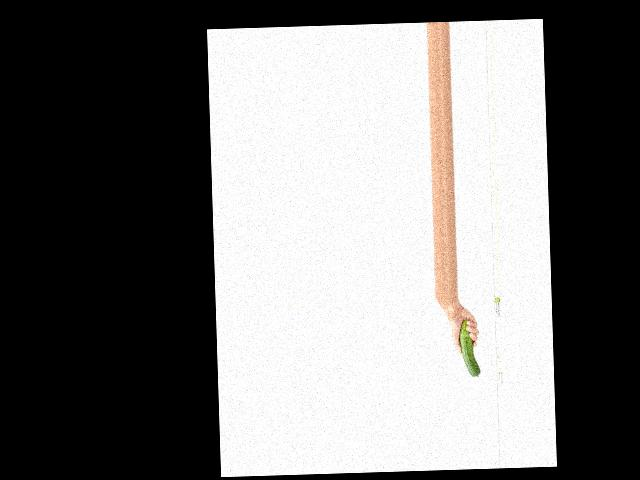cucumber: (460, 319, 480, 377)
